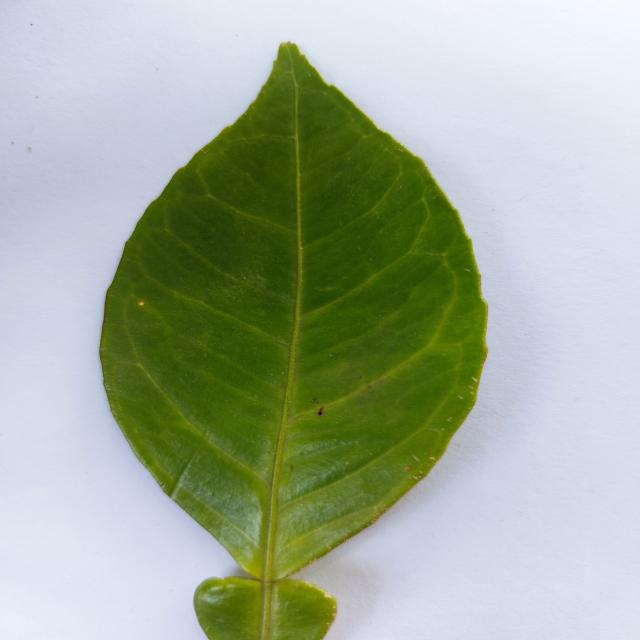greening: (101, 43, 486, 640)
